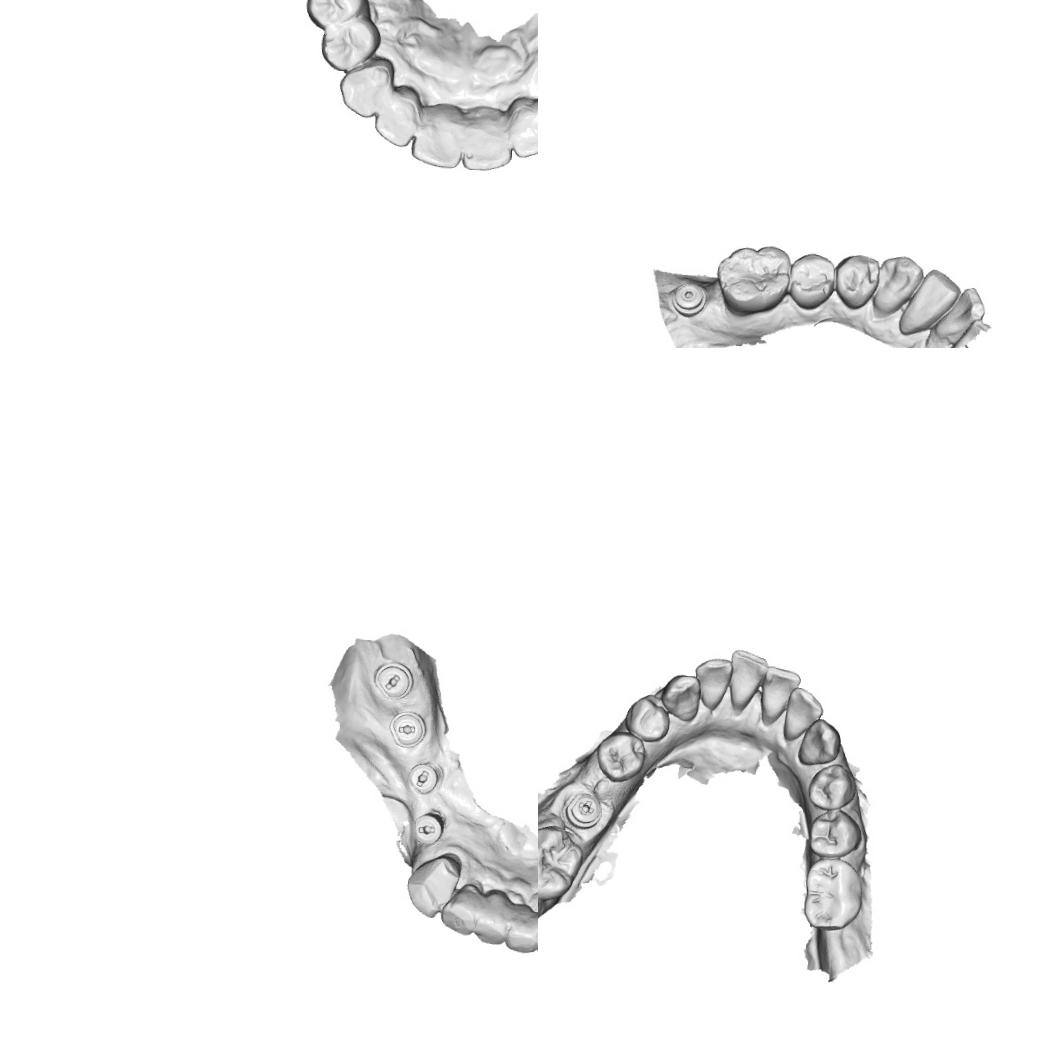canine: (403, 850, 464, 920), (869, 252, 926, 315), (336, 60, 390, 120), (657, 670, 702, 724), (796, 714, 842, 766)
implant: (670, 280, 709, 318)
implant_minus: (386, 708, 428, 750), (372, 660, 416, 700), (410, 808, 448, 847), (405, 760, 444, 796)
implant_plus: (562, 788, 604, 830)
incisor: (897, 266, 962, 338), (458, 104, 516, 173), (408, 100, 464, 170), (930, 283, 986, 341), (370, 90, 418, 150), (726, 647, 770, 710), (780, 682, 826, 742), (757, 663, 802, 722), (472, 888, 514, 946), (438, 880, 480, 936), (691, 656, 732, 712), (505, 96, 538, 160), (503, 900, 538, 953)
molar: (712, 241, 792, 318), (800, 854, 866, 934), (538, 820, 585, 904)
premolar: (318, 16, 382, 75), (804, 804, 863, 858), (786, 250, 837, 312), (832, 250, 880, 312), (594, 730, 649, 782), (805, 761, 860, 812), (622, 692, 672, 744), (302, 0, 368, 32)
